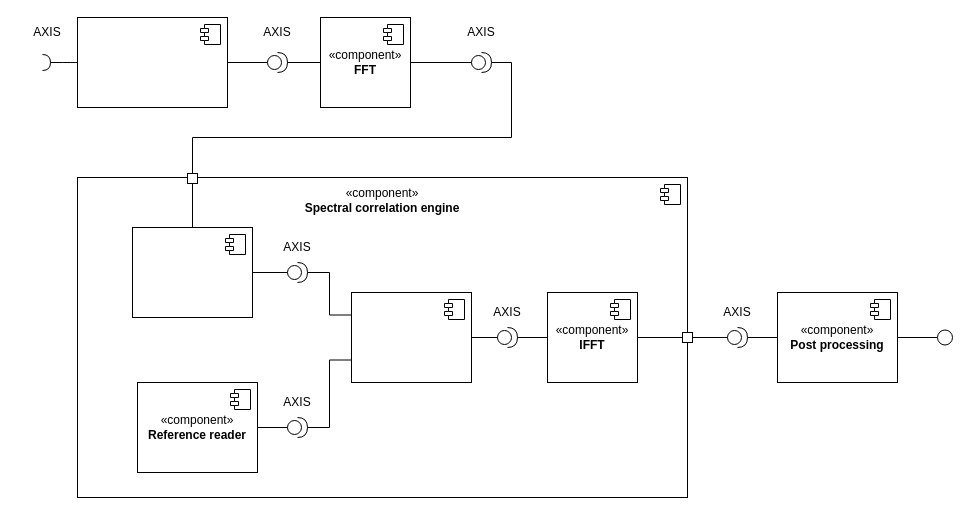
Some shapes in this 970 by 515 pixel diagram are drawn without their labels. Each missing label, with the centre of its shape:
"«component» Complex multiplication" goes at pixel 411 337.
"«component» Overlape-save block builder" goes at pixel 152 62.
"«component» Repeater" goes at pixel 192 272.
